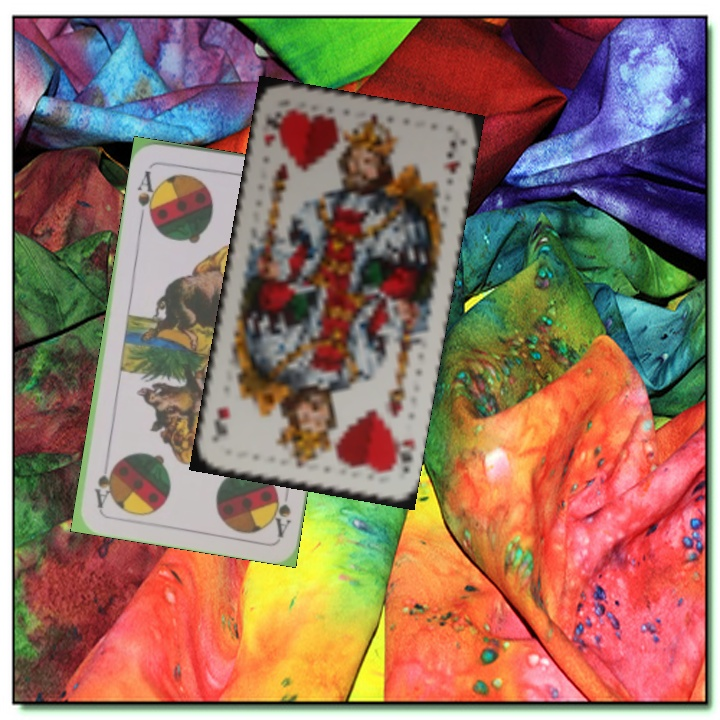HK: (385, 434, 417, 476), (259, 107, 284, 150)
SA: (133, 166, 161, 224), (267, 480, 294, 539)
